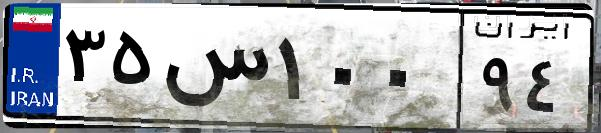0: (385, 28, 445, 110), (330, 28, 385, 110)
1: (270, 28, 330, 110)
3: (57, 26, 110, 100)
4: (525, 38, 570, 115)
5: (110, 28, 158, 98)
9: (475, 38, 525, 113)
س: (158, 20, 270, 120)
